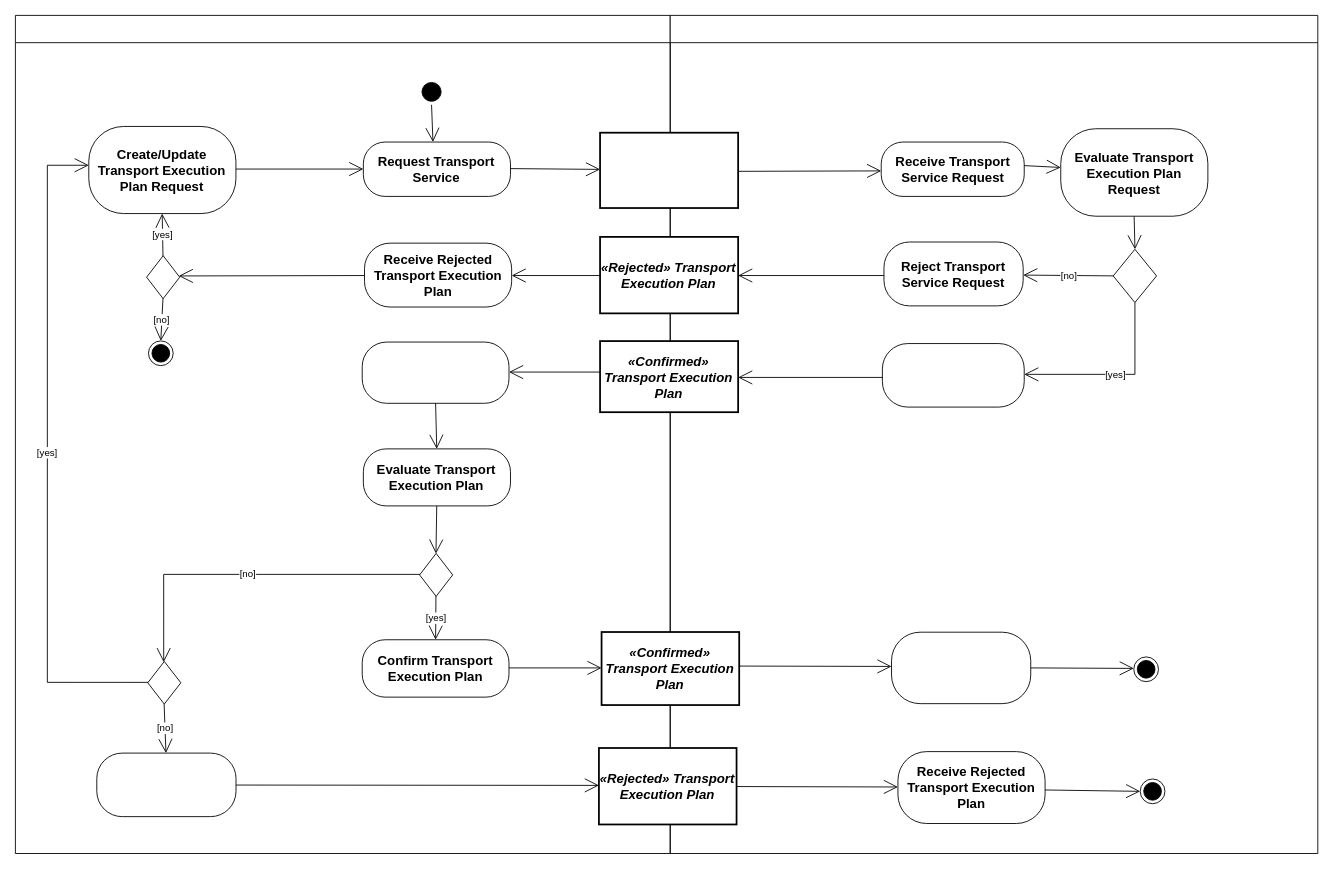
Some shapes in this 1333 by 869 pixel diagram are drawn without their labels. Here are the shapes that lost their labels. From the top down, the box of each, then its label:
(599, 131, 739, 208): «NotConfirmed» Transport Execution Plan Request
(361, 341, 509, 403): Receive Proposed Transport Execution Plan
(881, 343, 1024, 407): Confirm Transport Service Request
(15, 15, 670, 854): Transport User
(669, 15, 1318, 854): Transport Service Provider
(891, 631, 1031, 704): Receive Confirmed Transport Execution Plan
(96, 752, 236, 817): Reject Transport Execution Plan
